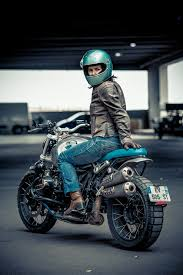moto: (15, 122, 171, 253)
person: (71, 45, 141, 160)
